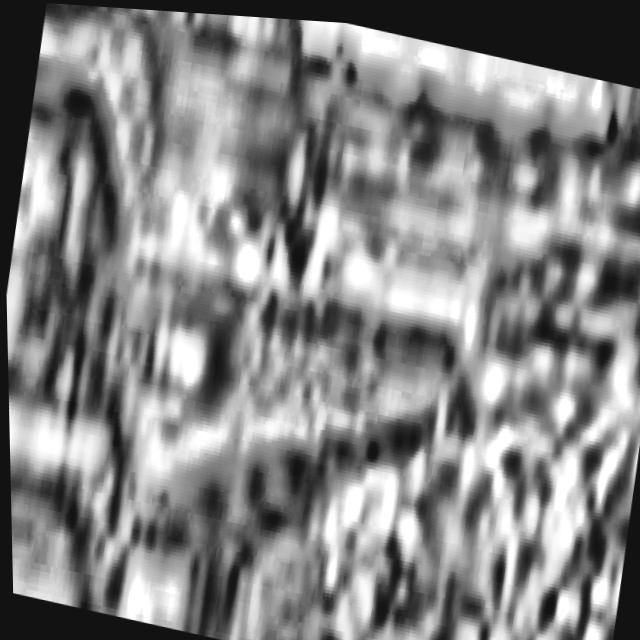dump_truck: (0, 0, 519, 640)
